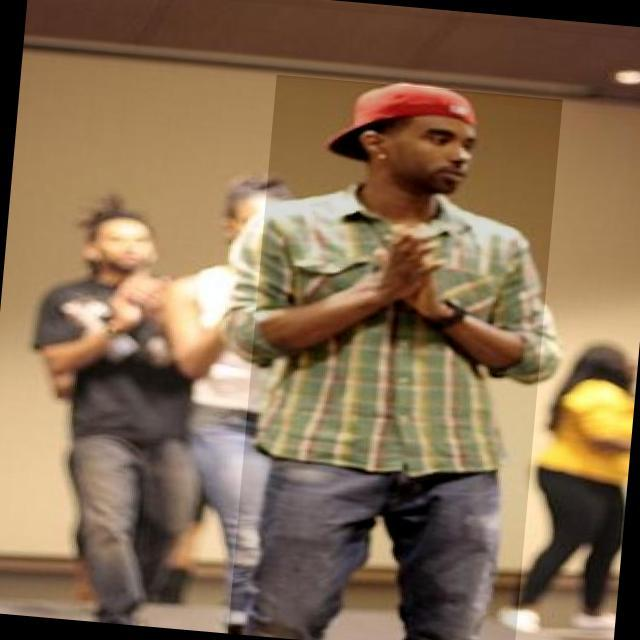Person: (199, 39, 595, 640)
bare-arms: (359, 226, 444, 306)
no-helmet: (313, 79, 502, 149)
no-vest: (219, 189, 580, 487)
